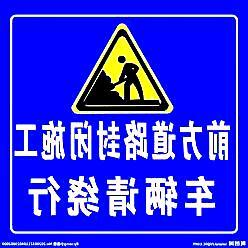sign: (9, 12, 239, 235)
